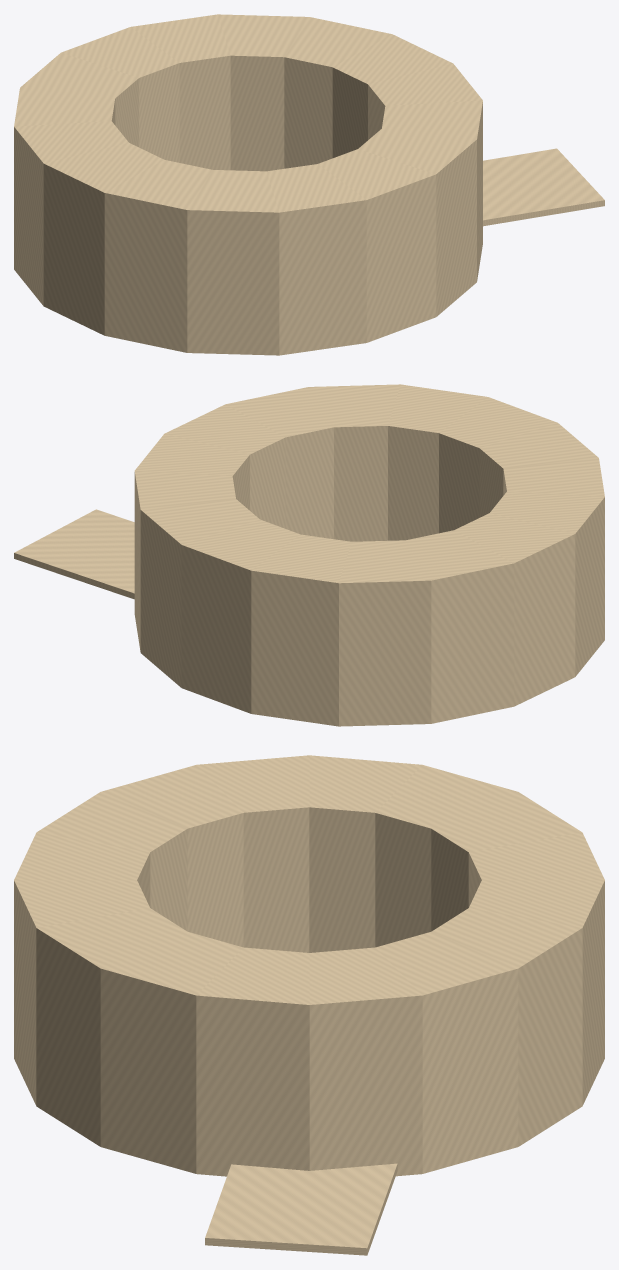
The model's file is tape-roll.fbx.
3 views of the same model, one above another, from view 1: azimuth 30°, elevation 25°; view 2: azimuth 150°, elevation 25°; view 3: azimuth 270°, elevation 25° (orthographic). The views are drawn at different scales.
Visible parts, largest first — view 1: tape-roll; view 2: tape-roll; view 3: tape-roll.
Part boxes in pixels (left/top/right/bottom): tape-roll: left=14, top=14, right=604, bottom=355; tape-roll: left=14, top=384, right=604, bottom=726; tape-roll: left=14, top=755, right=604, bottom=1255.
Bounding box in the file's own units: 943 × 240 × 720.
Materials: 1 (1 with a texture image).
